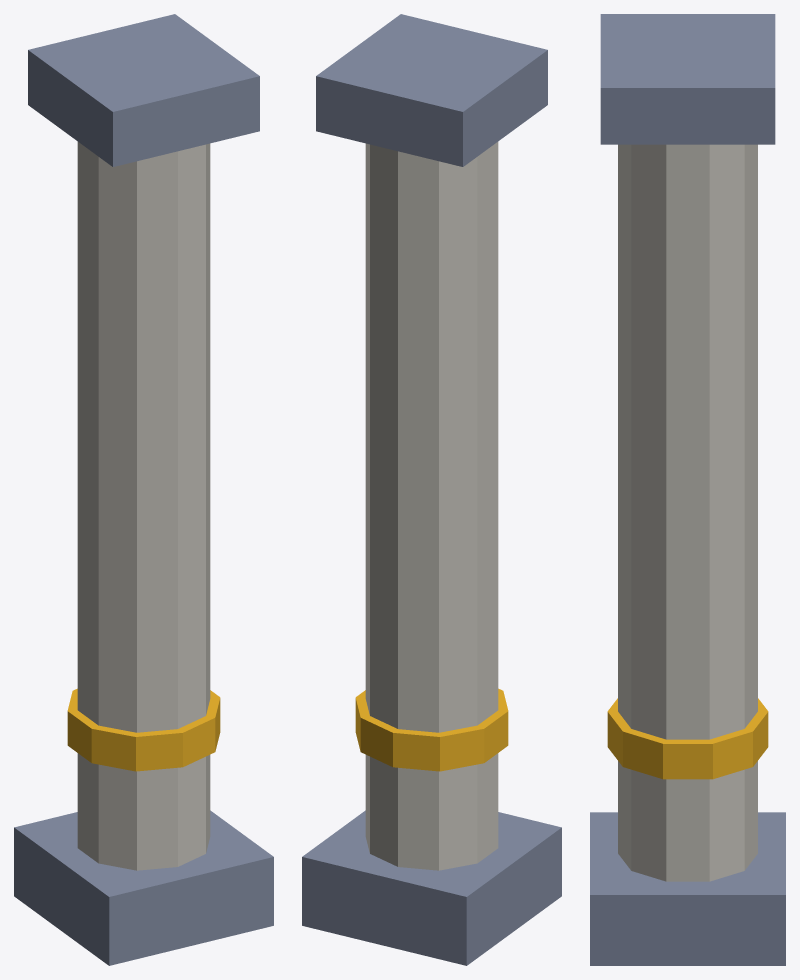
The model's file is pillar.glb.
3 views of the same model, side by side, from view 1: azimuth 30°, elevation 25°; view 2: azimuth 150°, elevation 25°; view 3: azimuth 270°, elevation 25° (orthographic). The views are drawn at different scales.
Visible parts, largest first — view 1: pillar; view 2: pillar; view 3: pillar.
Part boxes in pixels (x1,y1,x2,y2): pillar: [14, 14, 273, 965]; pillar: [302, 14, 561, 965]; pillar: [590, 14, 785, 965].
Bounding box in the file's own units: 0.5 × 2.46 × 0.5.
